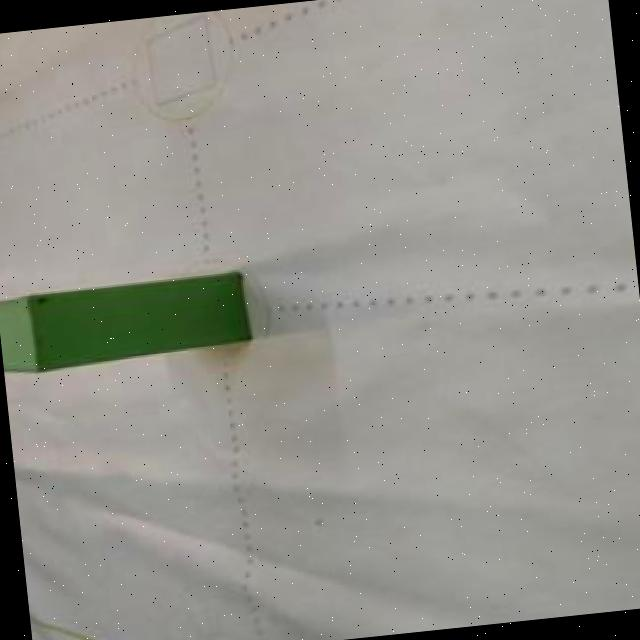greenbox: (0, 266, 255, 376)
